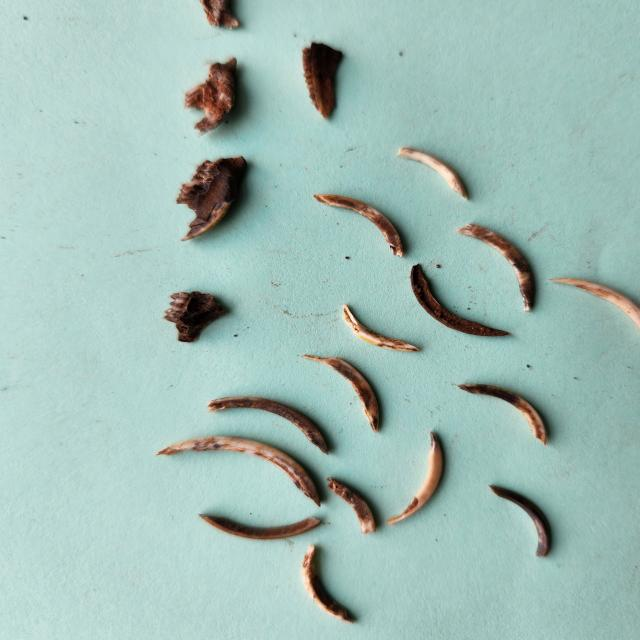fossil: (150, 432, 328, 512), (448, 216, 544, 317), (197, 388, 334, 458), (408, 260, 518, 345), (163, 150, 257, 248), (545, 267, 640, 356), (296, 348, 388, 436), (452, 376, 555, 454), (304, 188, 412, 260), (162, 53, 250, 139), (382, 426, 449, 530), (479, 480, 558, 562), (288, 31, 352, 127), (393, 138, 479, 206), (297, 542, 361, 630), (334, 300, 426, 358), (156, 285, 236, 347), (191, 509, 327, 544), (322, 472, 381, 538), (170, 0, 259, 38)
